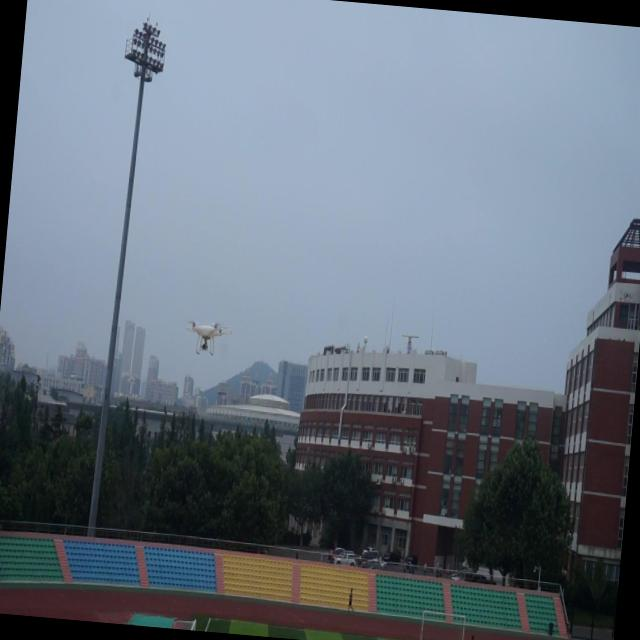drone: (182, 313, 235, 363)
